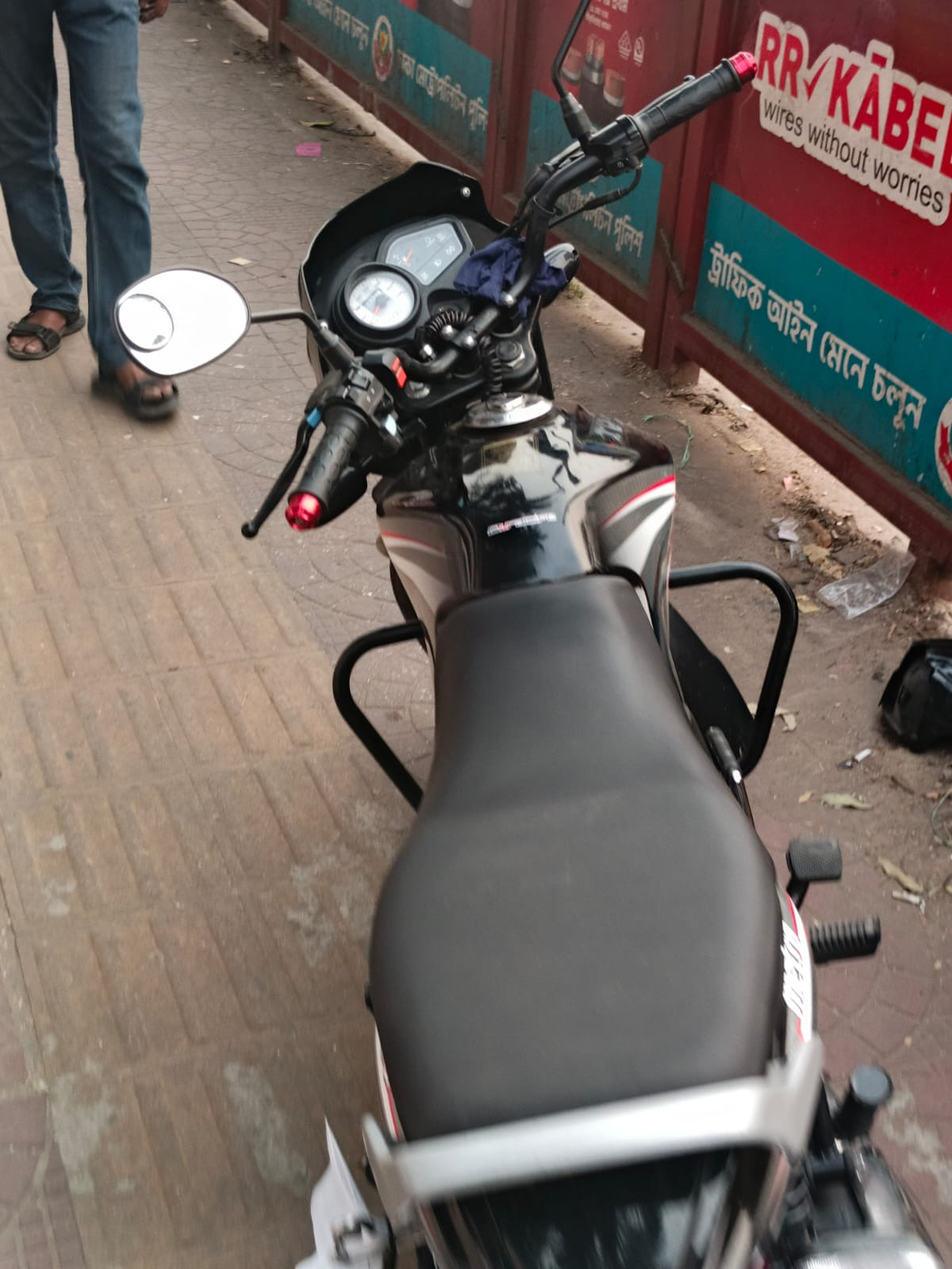Bikes: (95, 49, 883, 1269)
